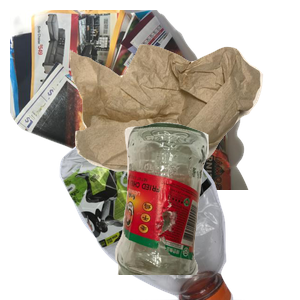glass: (112, 120, 300, 300)
paper: (10, 10, 250, 190)
plastic: (57, 120, 293, 300)
trash: (67, 42, 300, 206)
